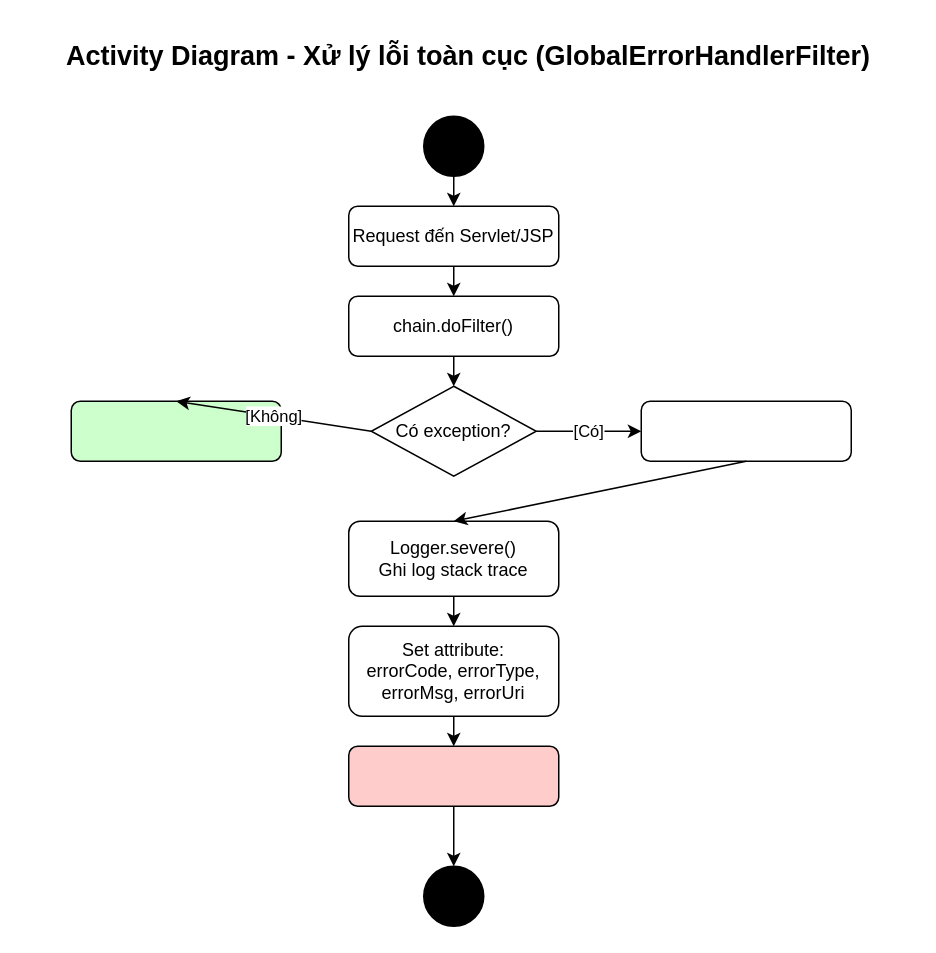
Some shapes in this 936 by 953 pixel diagram are drawn without their labels. The centre of each missing label's shape, as x and y in pixels:
dispatch → /error.jsp: the point at 453,775
Exception được throw: the point at 745,430
Response bình thường: the point at 175,430
